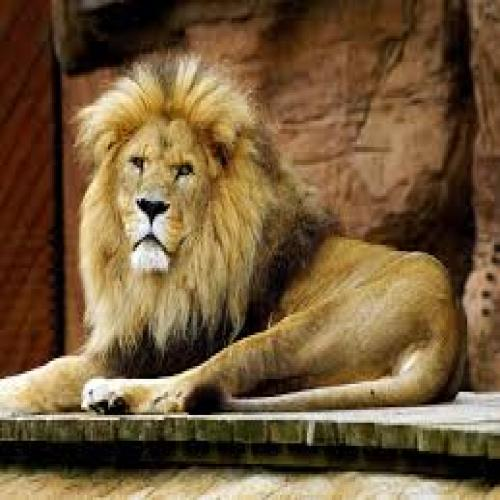lion-endangered: (0, 58, 466, 408)
